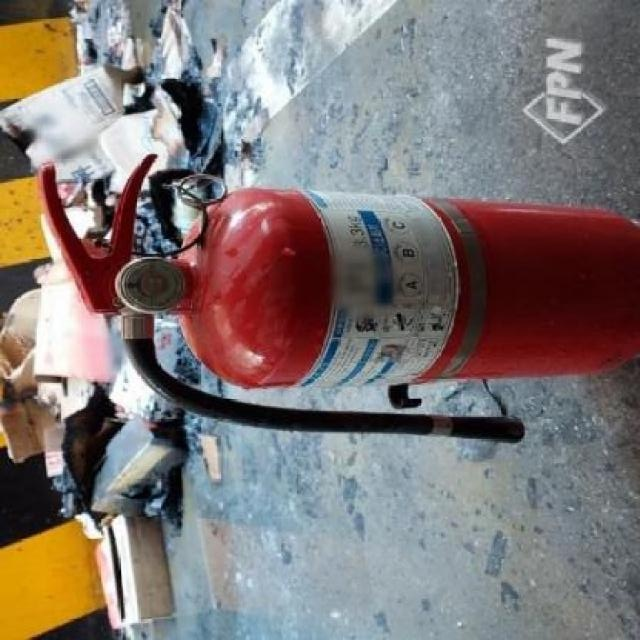fire extinguisher: (35, 152, 640, 445)
